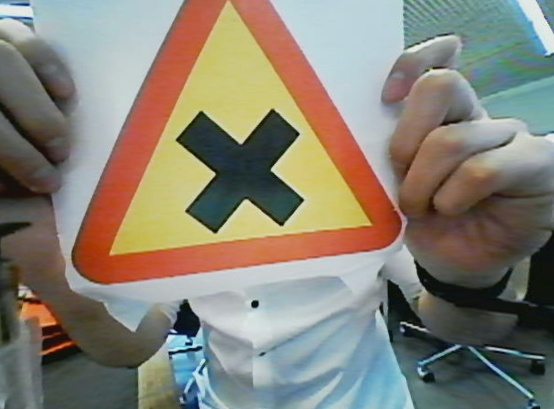junction: (62, 1, 405, 279)
